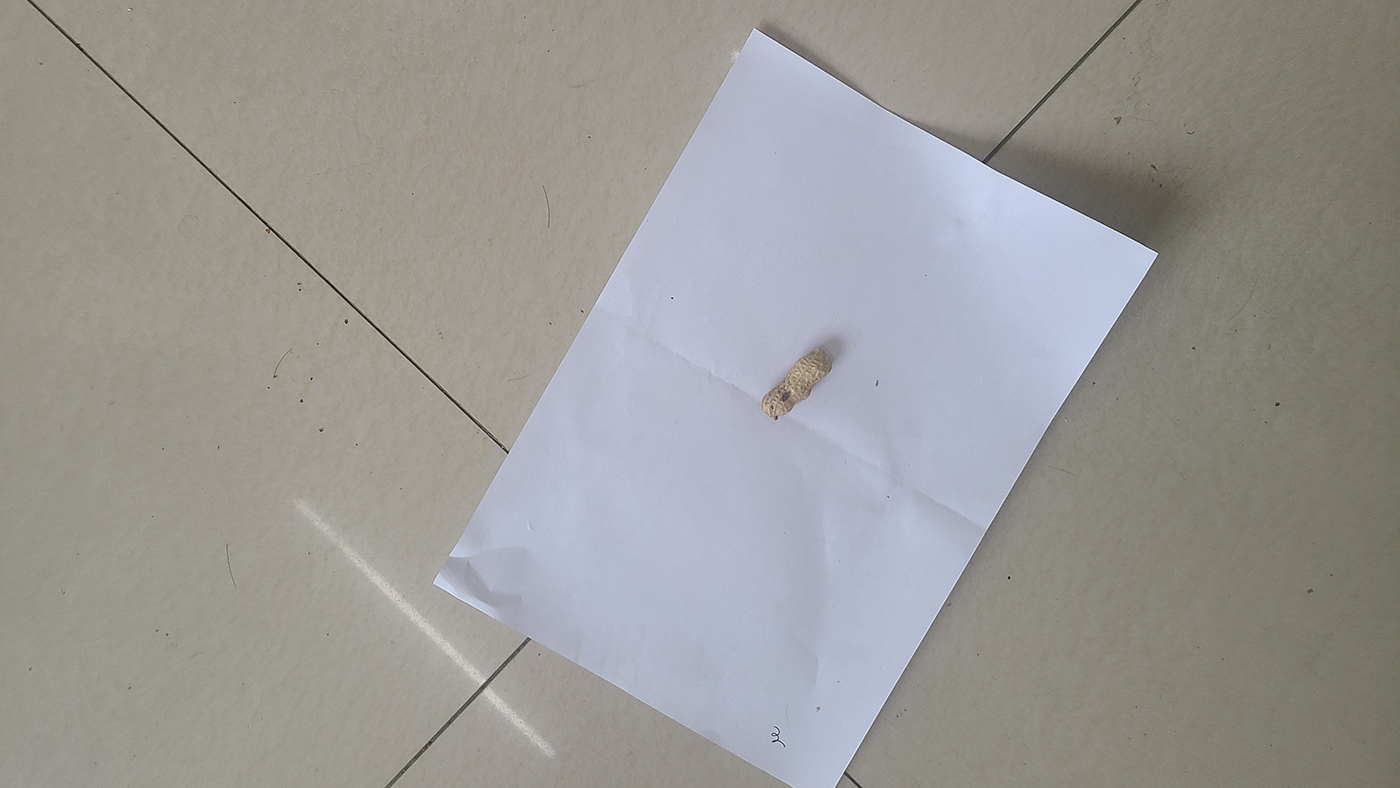h: (760, 348, 833, 417)
